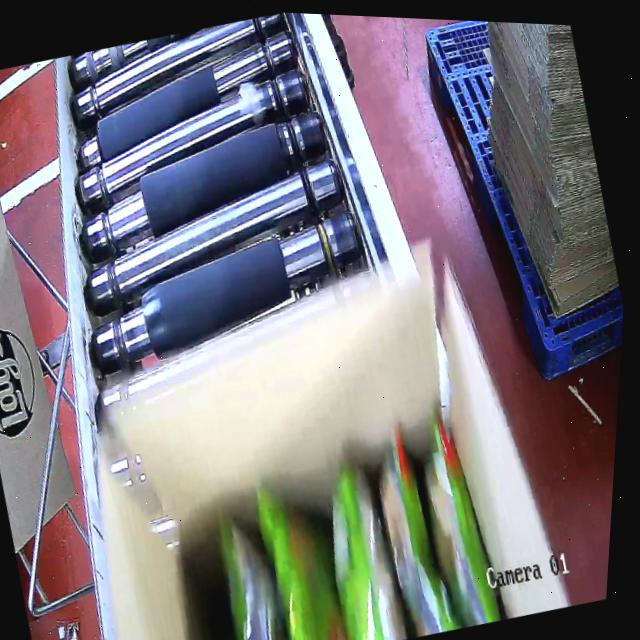YOGURT_HERB: (174, 461, 514, 640)
